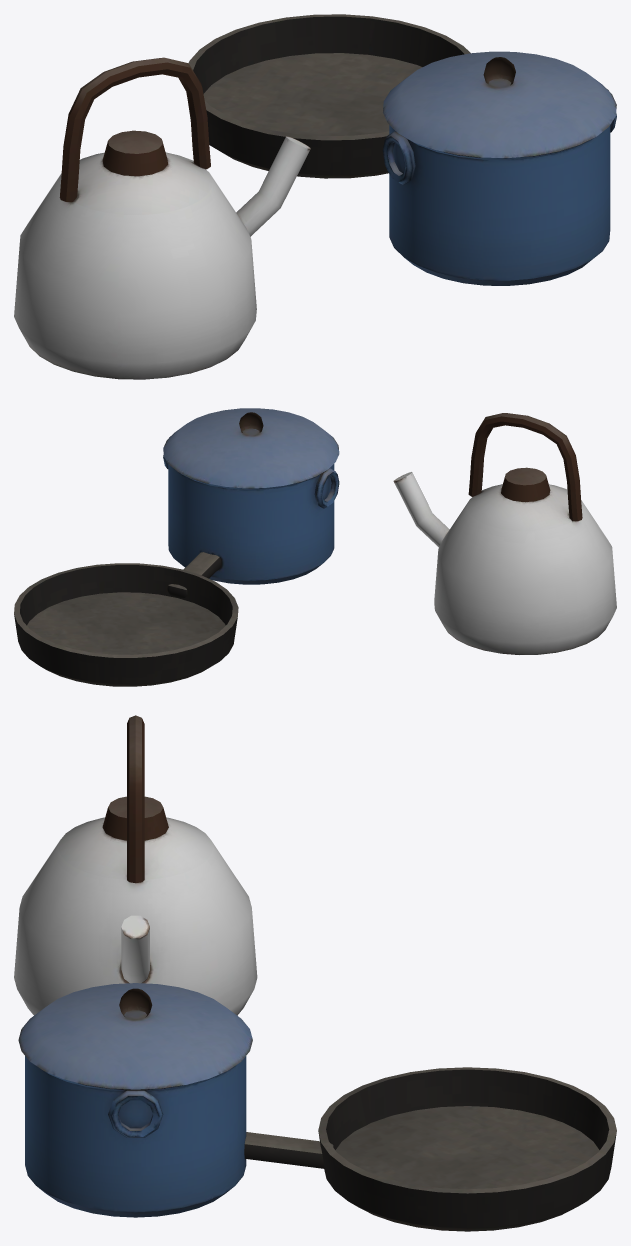
File: clutter_stove.glb
The picture shows the model from 3 angles, top to bottom: view 1: azimuth 30°, elevation 25°; view 2: azimuth 150°, elevation 25°; view 3: azimuth 270°, elevation 25°; orthographic projection. The views are drawn at different scales.
Visible parts, largest first — view 1: clutter_stove; view 2: clutter_stove; view 3: clutter_stove.
Part boxes in pixels (bbox=[...]): clutter_stove: bbox=[14, 14, 616, 379]; clutter_stove: bbox=[14, 408, 616, 686]; clutter_stove: bbox=[14, 715, 616, 1231].
Bounding box in the file's own units: 0.625 × 0.2705 × 0.545.
1 material, 1 textured.
